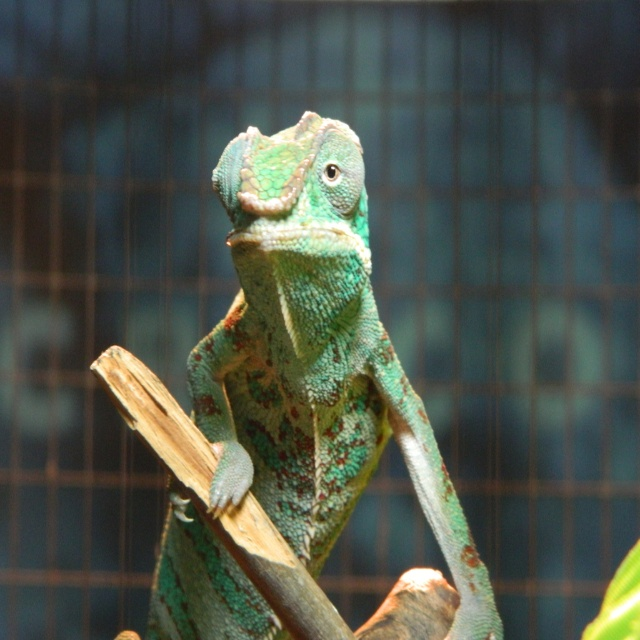Lizard: (193, 92, 481, 640)
